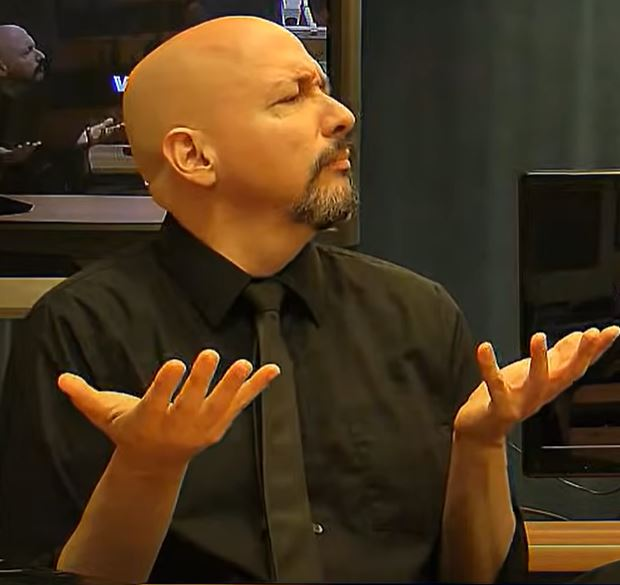What: (28, 311, 620, 481)
